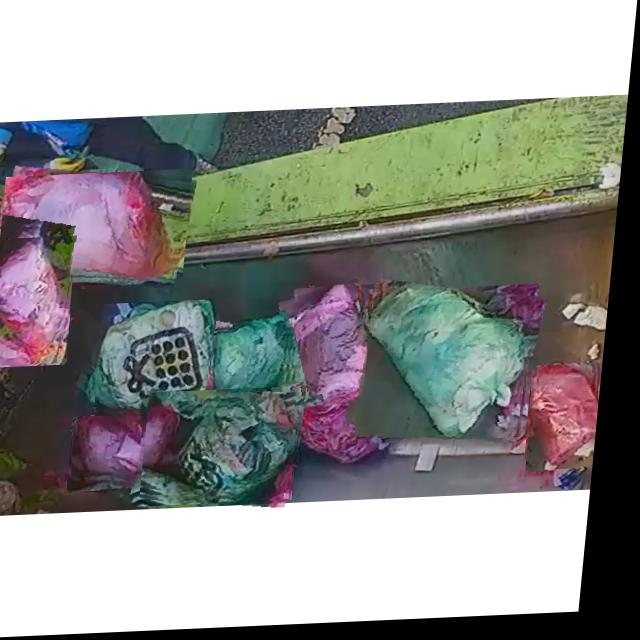general_trashbag: (376, 288, 541, 444), (157, 394, 310, 503), (106, 303, 228, 419), (214, 316, 294, 405)
other_trashbag: (5, 173, 181, 281), (293, 289, 384, 408), (0, 239, 72, 365), (81, 415, 184, 485), (539, 373, 606, 475), (295, 404, 400, 464)
